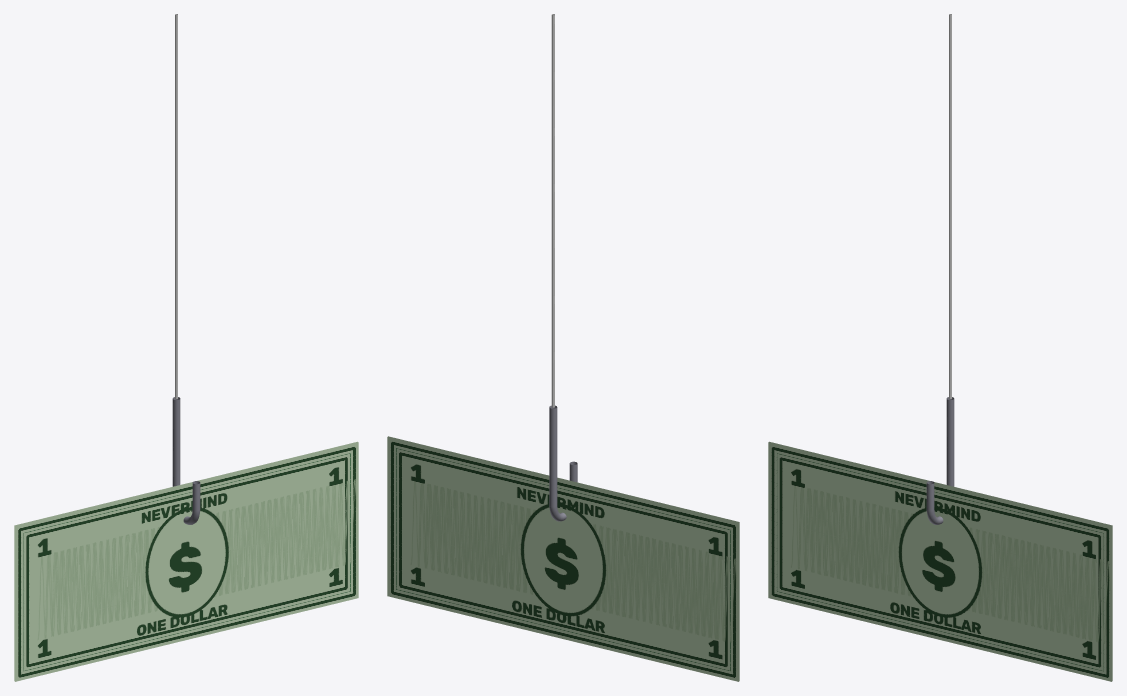
The model's file is billet_hamecon.obj.
The picture shows the model from 3 angles, left to right: view 1: azimuth 30°, elevation 25°; view 2: azimuth 150°, elevation 25°; view 3: azimuth 330°, elevation 25°; orthographic projection. The views are drawn at different scales.
Parts seen in each view (by area): view 1: billet, hamecon, fil; view 2: billet, fil, hamecon; view 3: billet, hamecon, fil.
Part boxes in pixels (box(x1,y1,x2,y2)): billet: box(14, 441, 358, 681); hamecon: box(172, 397, 200, 524); fil: box(175, 14, 177, 398); billet: box(387, 436, 739, 681); fil: box(551, 14, 554, 407); hamecon: box(549, 405, 577, 521); billet: box(768, 441, 1112, 681); hamecon: box(926, 397, 954, 524); fil: box(949, 14, 951, 398).
Size of the model in its own units: 0.3 by 0.515 by 0.036.
Materials: 3 (1 with a texture image).
